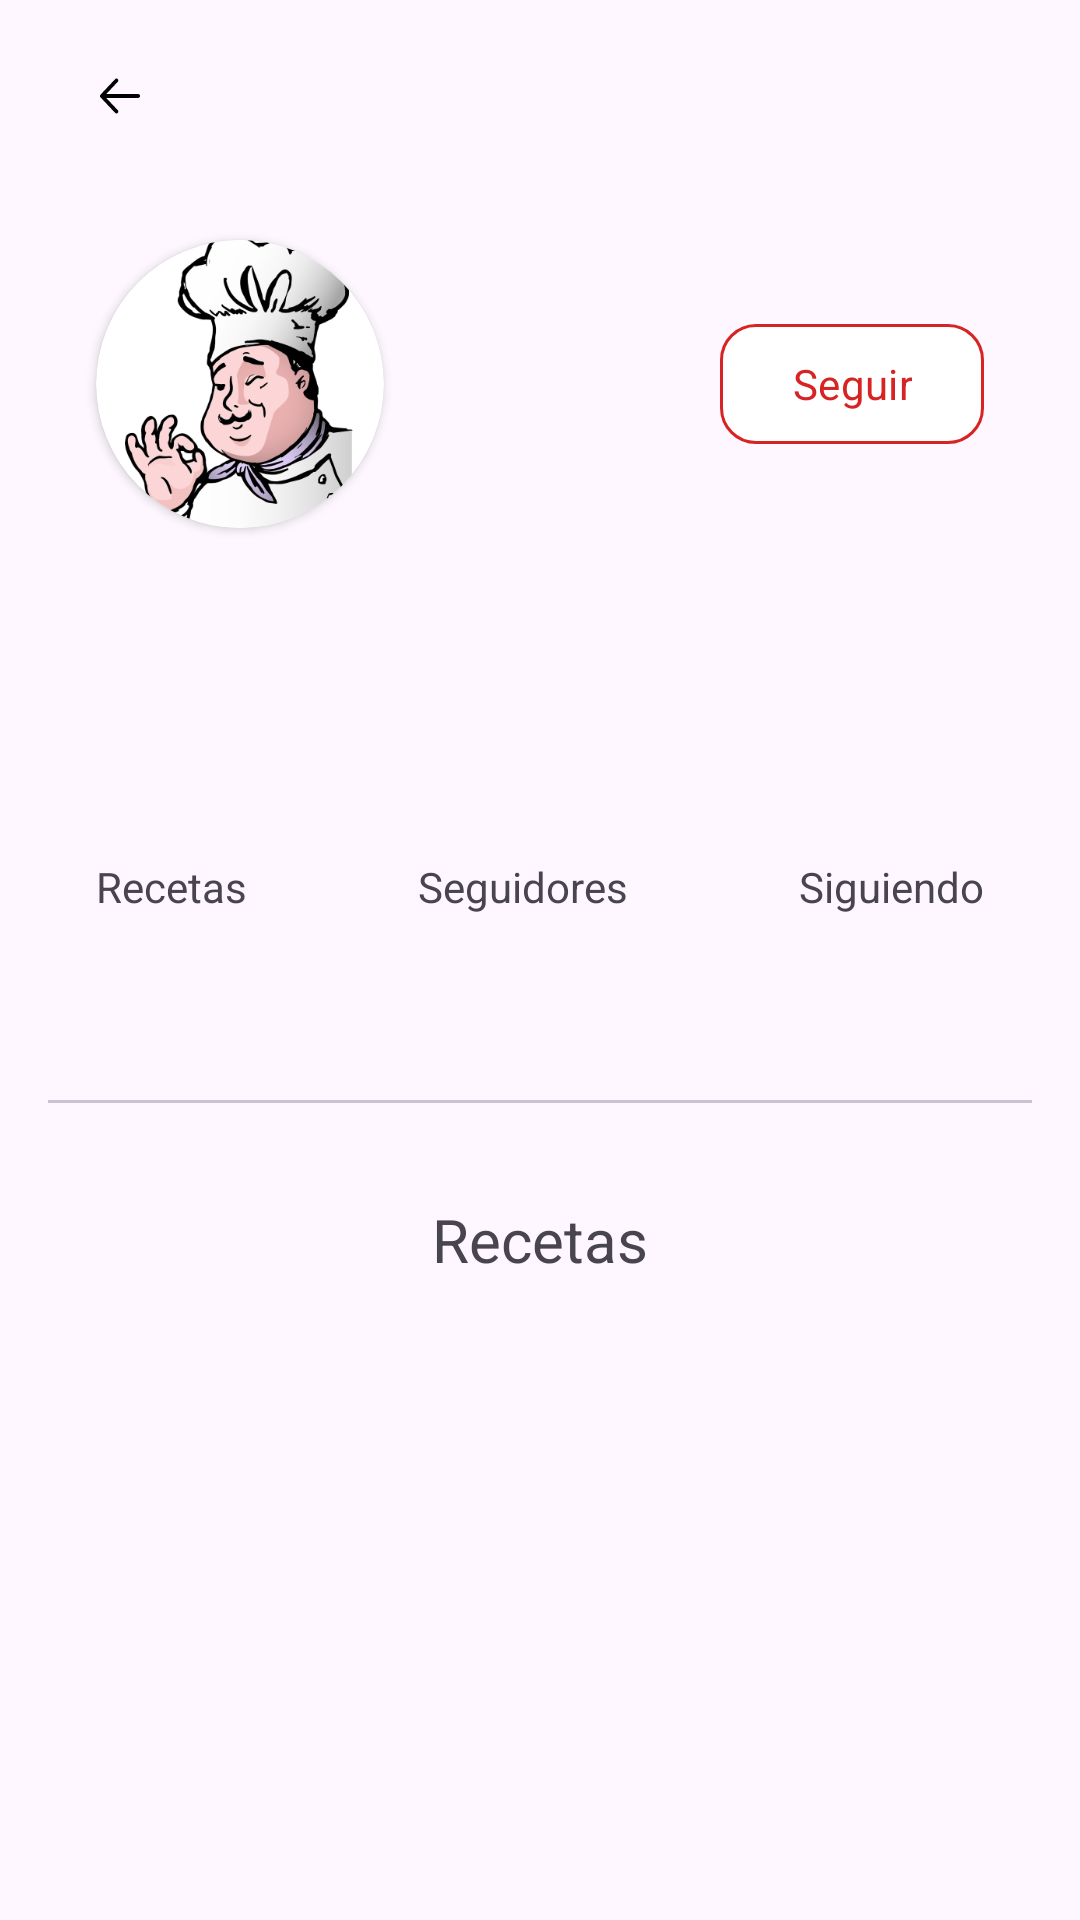

Icon bounding boxes for this 1080*1920 phone screenshot, format Rect(x1, y1, x2, y2):
Imagen del usuario: Rect(96, 240, 384, 528)
Ir atrás: Rect(100, 78, 140, 114)
